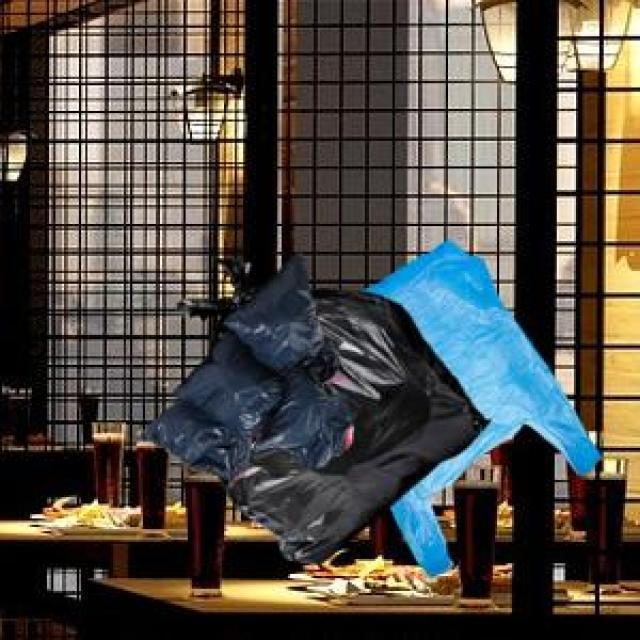miscellaneous trash: (173, 254, 486, 561), (132, 248, 350, 478)
